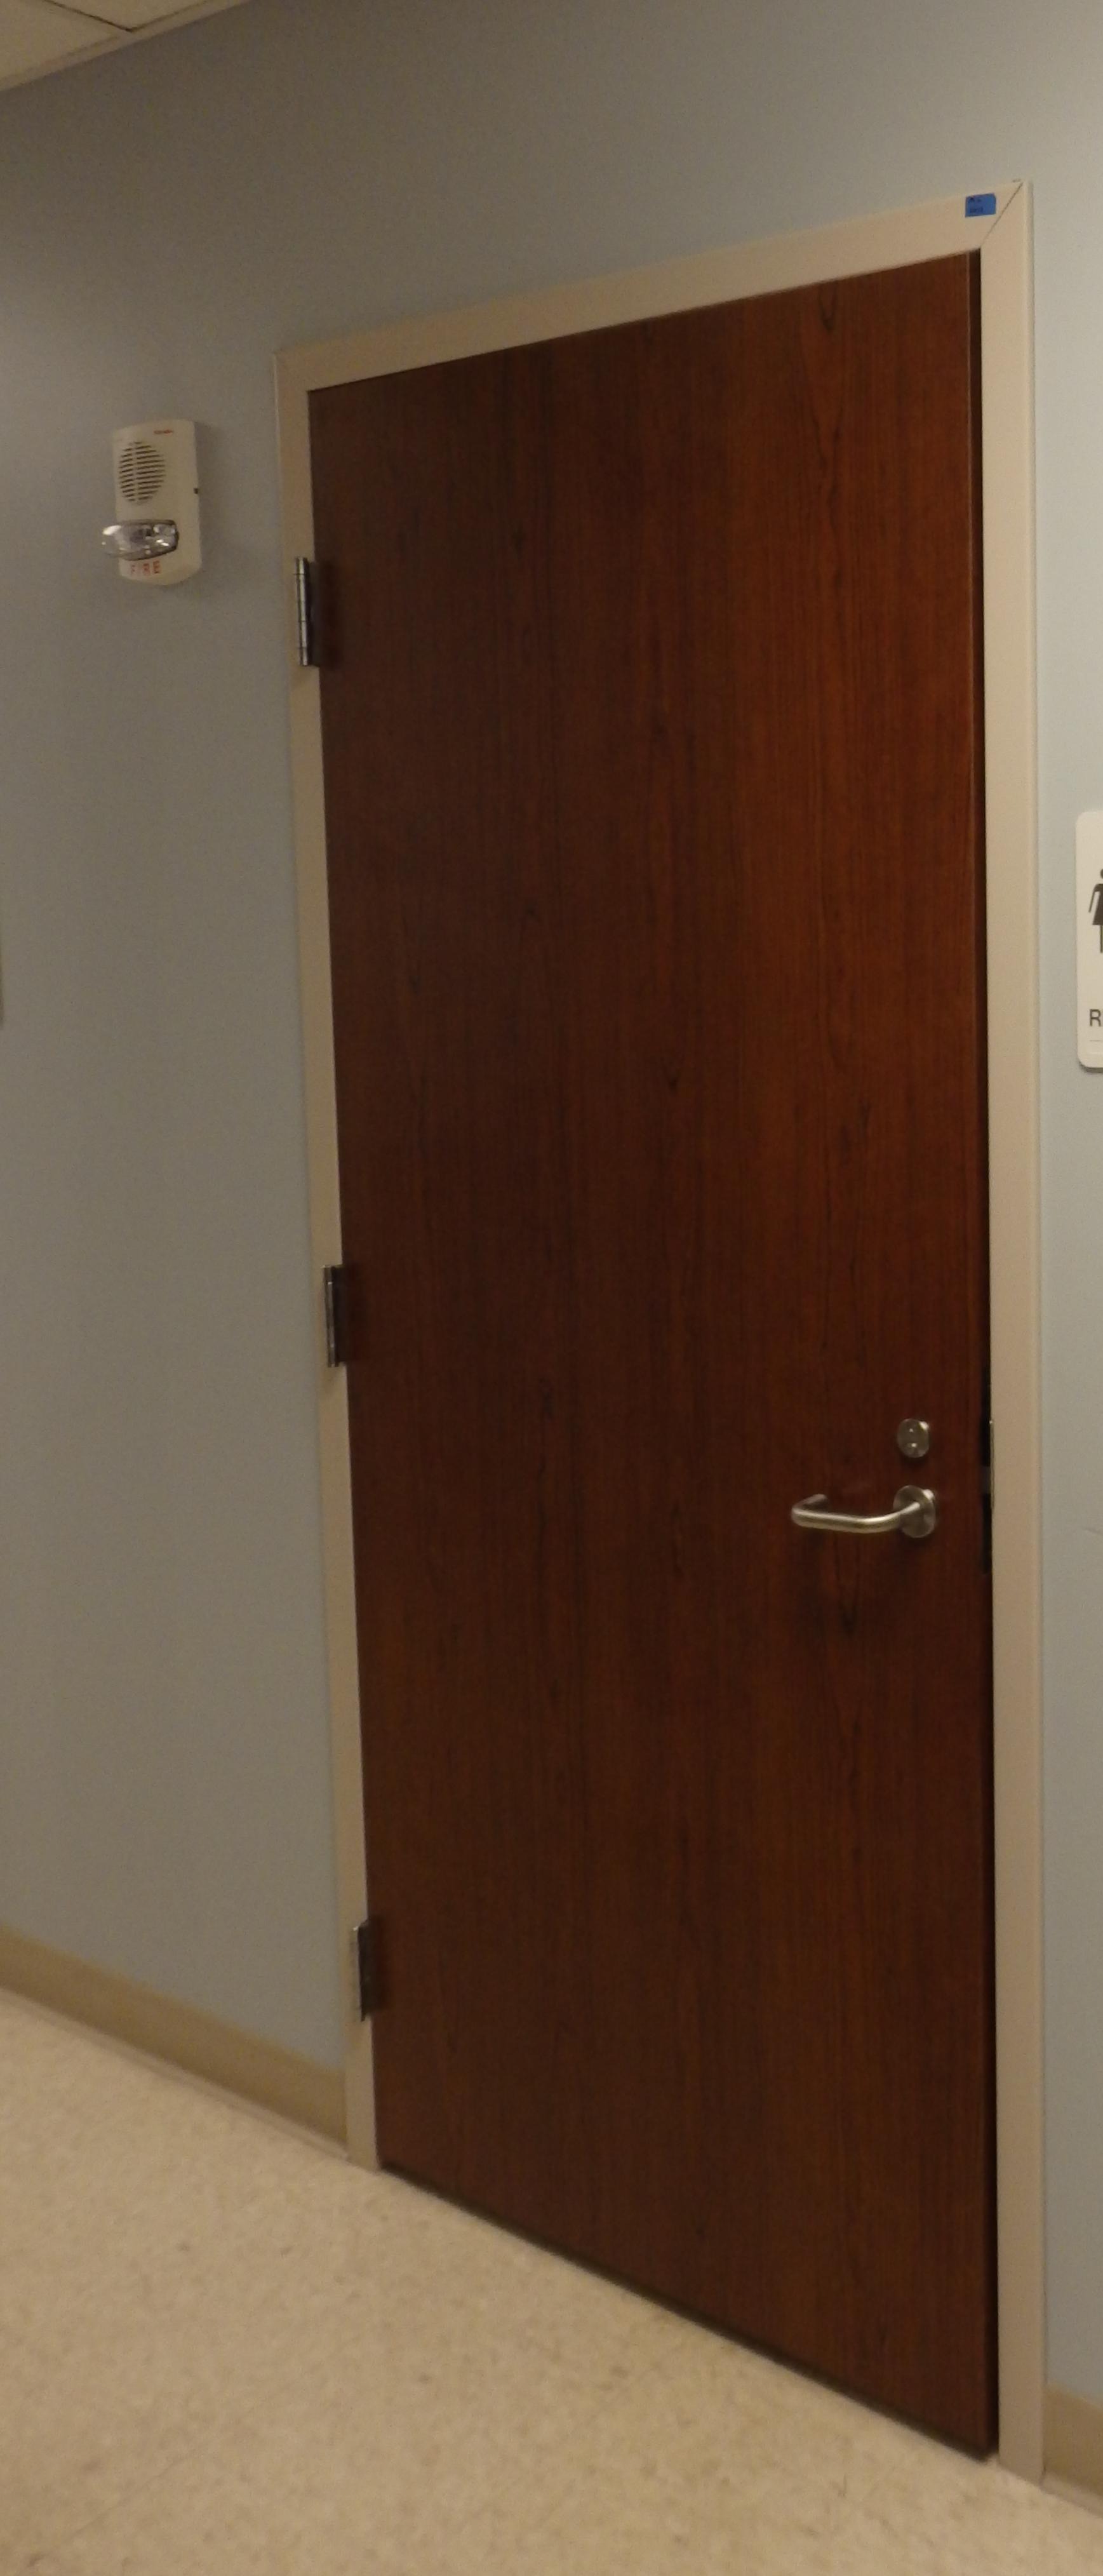door: (292, 238, 1005, 2448)
